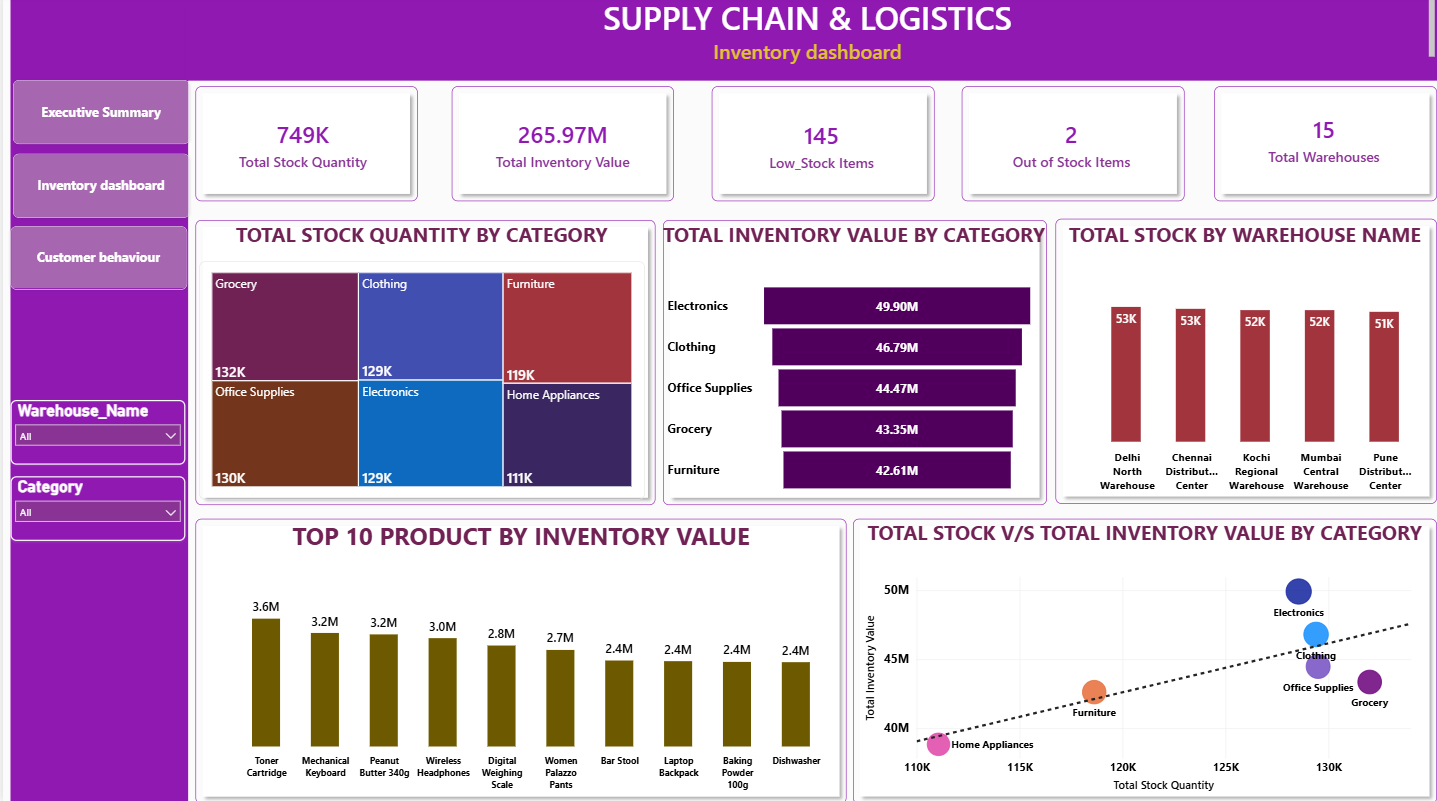

Layout of this report page (visuals, bound fields, positions):
{"tool":"powerbi","page":{"name":"Inventory dashboard","canvas":[1920,1080],"ordinal":1},"visuals":[{"type":"shape","box":[257.1,300.6,614.5,380.7],"z":0},{"type":"shape","box":[10.8,0,237.3,1080.4],"z":1000},{"type":"shape","box":[244.5,0,1675,114.7],"z":2000},{"type":"shape","box":[257.5,121.2,296.5,153.7],"z":3000},{"type":"shape","box":[1618,121.9,297.2,153.6],"z":4000},{"type":"shape","box":[599.4,121.9,296.5,153.7],"z":5000},{"type":"shape","box":[946.8,121.9,297.2,153.6],"z":6000},{"type":"shape","box":[1280.7,121.9,297.2,153.6],"z":7000},{"type":"shape","box":[257.5,699,870,380.9],"z":8000},{"type":"shape","box":[881.6,300.6,512.6,380.7],"z":9000},{"type":"shape","box":[1405.9,298.9,509.3,380.7],"z":10000},{"type":"shape","box":[1135.4,699.6,779.8,380.7],"z":11000},{"type":"actionButton","box":[12.9,114.3,235.7,85.7],"z":12000},{"type":"actionButton","box":[12.9,212.9,235.7,85.7],"z":13000},{"type":"actionButton","box":[10.8,309.5,235.9,84.4],"z":14000},{"type":"slicer","fields":{"Values":["Products.Category"]},"box":[10,642.9,233.7,86.6],"z":15000},{"type":"card","fields":{"Values":["Customers.Total Stock Quantity"]},"box":[261.9,121.2,277,153.7],"z":16000},{"type":"card","fields":{"Values":["Customers.Total Inventory Value"]},"box":[599.5,121.2,296.5,153.7],"z":17000},{"type":"treemap","fields":{"Group":["Products.Category"],"Values":["Customers.Total Stock Quantity"]},"box":[261.9,354.9,595.1,318.1],"z":18000},{"type":"scatterChart","fields":{"Series":["Products.Category"],"Size":["Customers.Total Inventory Value"],"X":["Customers.Total Stock Quantity"],"Y":["Customers.Total Inventory Value"]},"box":[1136.2,753.1,779.1,326.8],"z":19000},{"type":"clusteredColumnChart","fields":{"Category":["Warehouses.Warehouse_Name"],"Y":["Customers.Total Stock Quantity"]},"box":[1406.7,370.1,512.9,311.6],"z":20000},{"type":"funnel","fields":{"Category":["Products.Category"],"Y":["Customers.Total Inventory Value"]},"box":[872.1,370.1,521.6,309.5],"z":21000},{"type":"clusteredColumnChart","fields":{"Category":["Products.Product_Name"],"Y":["Customers.Total Inventory Value"]},"box":[261.6,779.5,865,301.7],"z":22000},{"type":"slicer","fields":{"Values":["Warehouses.Warehouse_Name"]},"box":[10,541,233.7,86.6],"z":23000},{"type":"card","fields":{"Values":["Customers.Low_Stock Items"]},"box":[945.7,123.4,296.5,153.7],"z":24000},{"type":"card","fields":{"Values":["Customers.Out of Stock Items"]},"box":[1279,121.2,296.5,153.7],"z":25000},{"type":"card","fields":{"Values":["Customers.Total Warehouses"]},"box":[1616.6,114.7,296.5,153.7],"z":26000},{"type":"textbox","box":[244.5,0,1668.6,95.2],"z":27000},{"type":"textbox","box":[262.2,300.6,594.4,70.1],"z":28000},{"type":"textbox","box":[881.6,300.6,510.9,93.5],"z":29000},{"type":"textbox","box":[1405.9,300.6,505.9,70.1],"z":29001},{"type":"textbox","box":[257.1,699.6,869.9,80.1],"z":29002},{"type":"textbox","box":[1138.7,699.9,772.8,58.6],"z":29003}]}

Visuals, with their boxes on the page's 1920x1080 design canvas (x1, y1, x2, y2). These are canvas units, not pixel positions in the 1437x801 screenshot, which may show the page scaled, cropped or inside an application window:
shape: region(257, 301, 872, 681)
shape: region(11, 0, 248, 1080)
shape: region(244, 0, 1920, 115)
shape: region(258, 121, 554, 275)
shape: region(1618, 122, 1915, 276)
shape: region(599, 122, 896, 276)
shape: region(947, 122, 1244, 276)
shape: region(1281, 122, 1578, 276)
shape: region(258, 699, 1128, 1080)
shape: region(882, 301, 1394, 681)
shape: region(1406, 299, 1915, 680)
shape: region(1135, 700, 1915, 1080)
actionButton: region(13, 114, 249, 200)
actionButton: region(13, 213, 249, 299)
actionButton: region(11, 310, 247, 394)
slicer - Products.Category: region(10, 643, 244, 730)
card - Customers.Total Stock Quantity: region(262, 121, 539, 275)
card - Customers.Total Inventory Value: region(600, 121, 896, 275)
treemap - Products.Category x Customers.Total Stock Quantity: region(262, 355, 857, 673)
scatterChart - Products.Category x Customers.Total Inventory Value: region(1136, 753, 1915, 1080)
clusteredColumnChart - Warehouses.Warehouse_Name x Customers.Total Stock Quantity: region(1407, 370, 1920, 682)
funnel - Products.Category x Customers.Total Inventory Value: region(872, 370, 1394, 680)
clusteredColumnChart - Products.Product_Name x Customers.Total Inventory Value: region(262, 780, 1127, 1081)
slicer - Warehouses.Warehouse_Name: region(10, 541, 244, 628)
card - Customers.Low_Stock Items: region(946, 123, 1242, 277)
card - Customers.Out of Stock Items: region(1279, 121, 1576, 275)
card - Customers.Total Warehouses: region(1617, 115, 1913, 268)
textbox: region(244, 0, 1913, 95)
textbox: region(262, 301, 857, 371)
textbox: region(882, 301, 1392, 394)
textbox: region(1406, 301, 1912, 371)
textbox: region(257, 700, 1127, 780)
textbox: region(1139, 700, 1912, 758)
